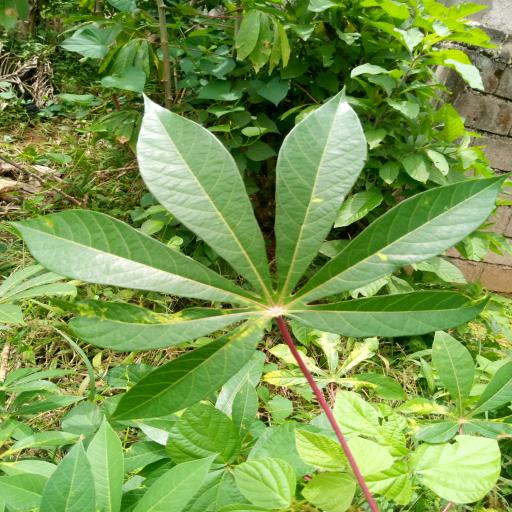Cassava_Mosaic: (11, 88, 512, 423)
